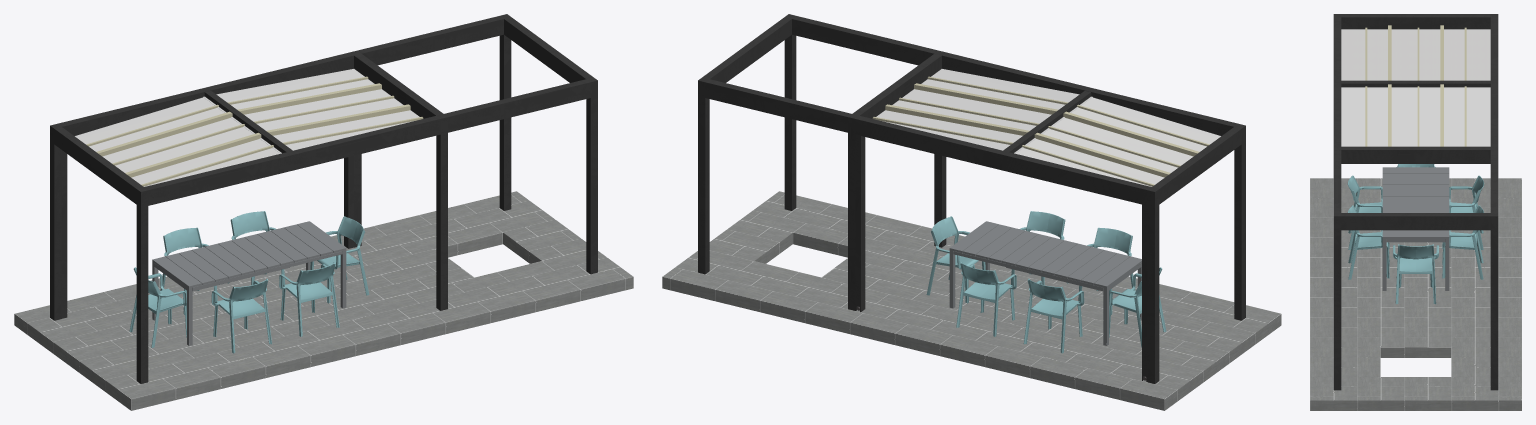
Rendered from hyg38_matbrack.fbx.
3 views of the same model, side by side, from view 1: azimuth 30°, elevation 25°; view 2: azimuth 150°, elevation 25°; view 3: azimuth 270°, elevation 25° (orthographic). The views are drawn at different scales.
Visible parts, largest first — view 1: hyg38_matbrack; view 2: hyg38_matbrack; view 3: hyg38_matbrack.
Part boxes in pixels (box(x1,y1,x2,y2)): hyg38_matbrack: box(14, 14, 633, 410); hyg38_matbrack: box(662, 14, 1281, 410); hyg38_matbrack: box(1310, 14, 1521, 410).
Bounding box in the file's own units: 670 × 260 × 270.
9 materials, 6 textured.
